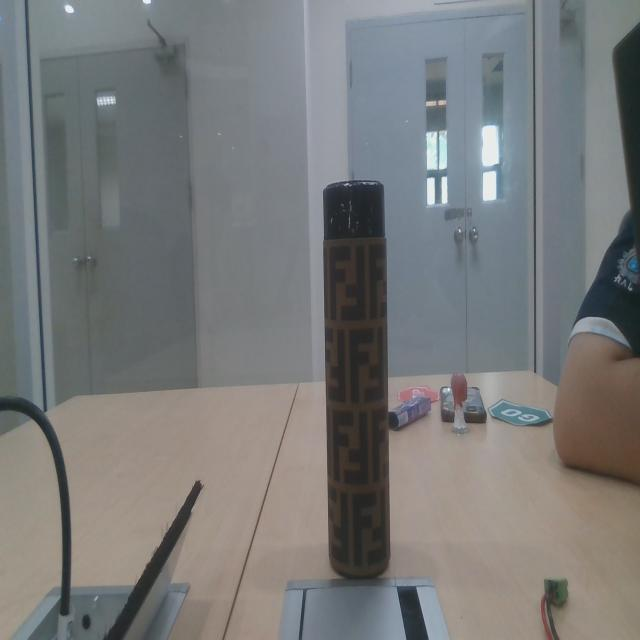Pole: (317, 158, 400, 581)
